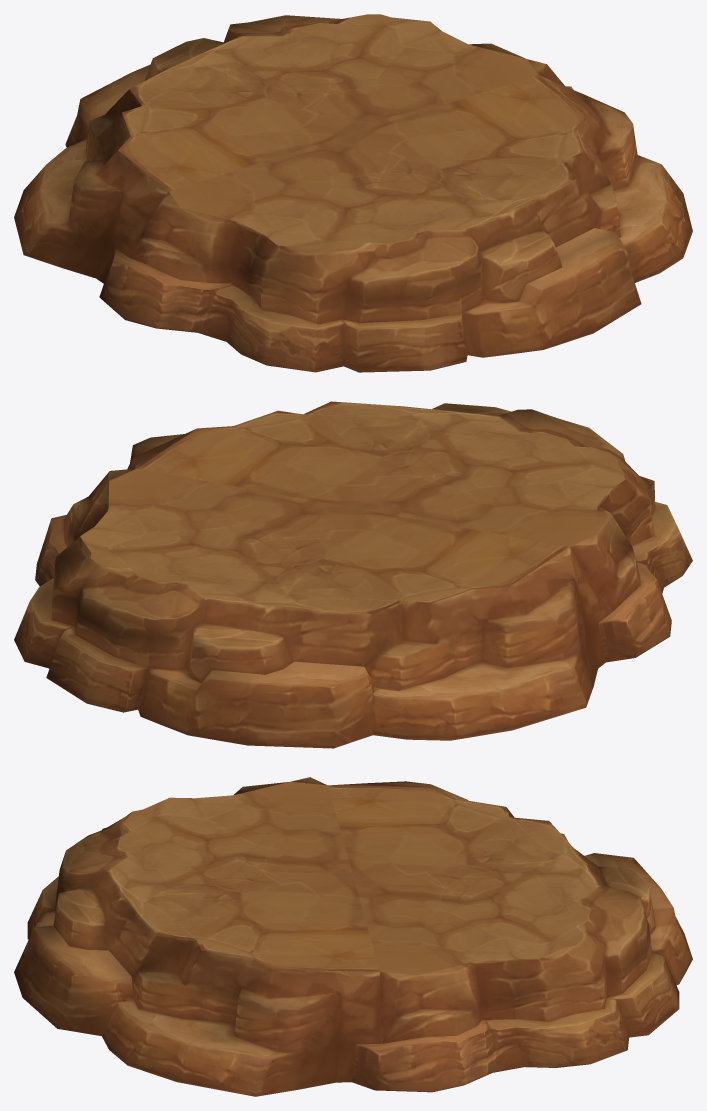
The model's file is Desert_cliff_02.fbx.
3 views of the same model, one above another, from view 1: azimuth 30°, elevation 25°; view 2: azimuth 150°, elevation 25°; view 3: azimuth 270°, elevation 25° (orthographic). The views are drawn at different scales.
Parts seen in each view (by area): view 1: Desert_cliff_02; view 2: Desert_cliff_02; view 3: Desert_cliff_02.
Boxes of the visible parts, <box> form: Desert_cliff_02: <box>14,14,692,372</box>; Desert_cliff_02: <box>14,401,692,748</box>; Desert_cliff_02: <box>14,777,692,1096</box>.
Size of the model in its own units: 660 by 102 by 722.
